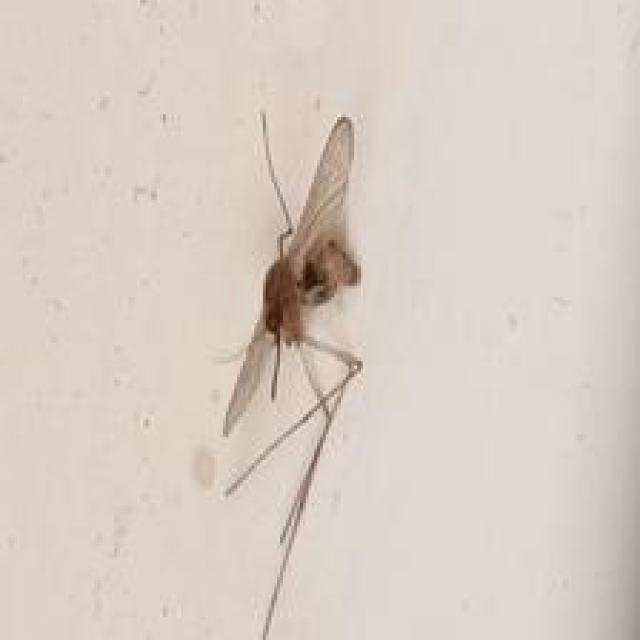Culex: (217, 108, 365, 640)
